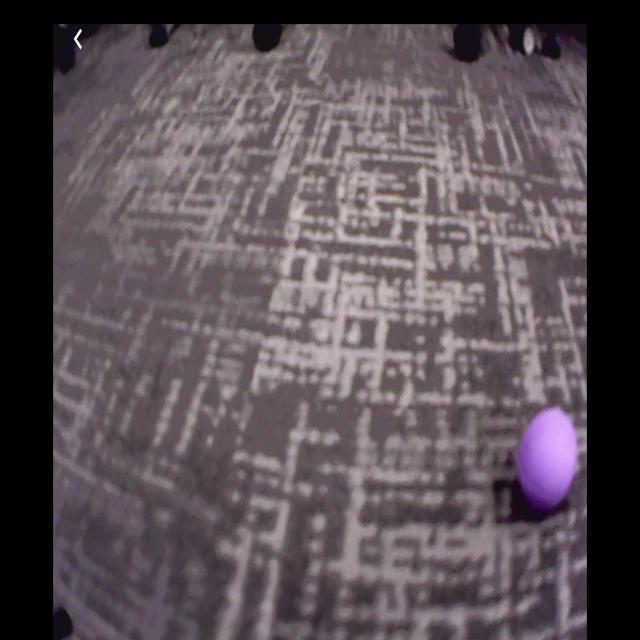ball: (519, 406, 578, 506)
